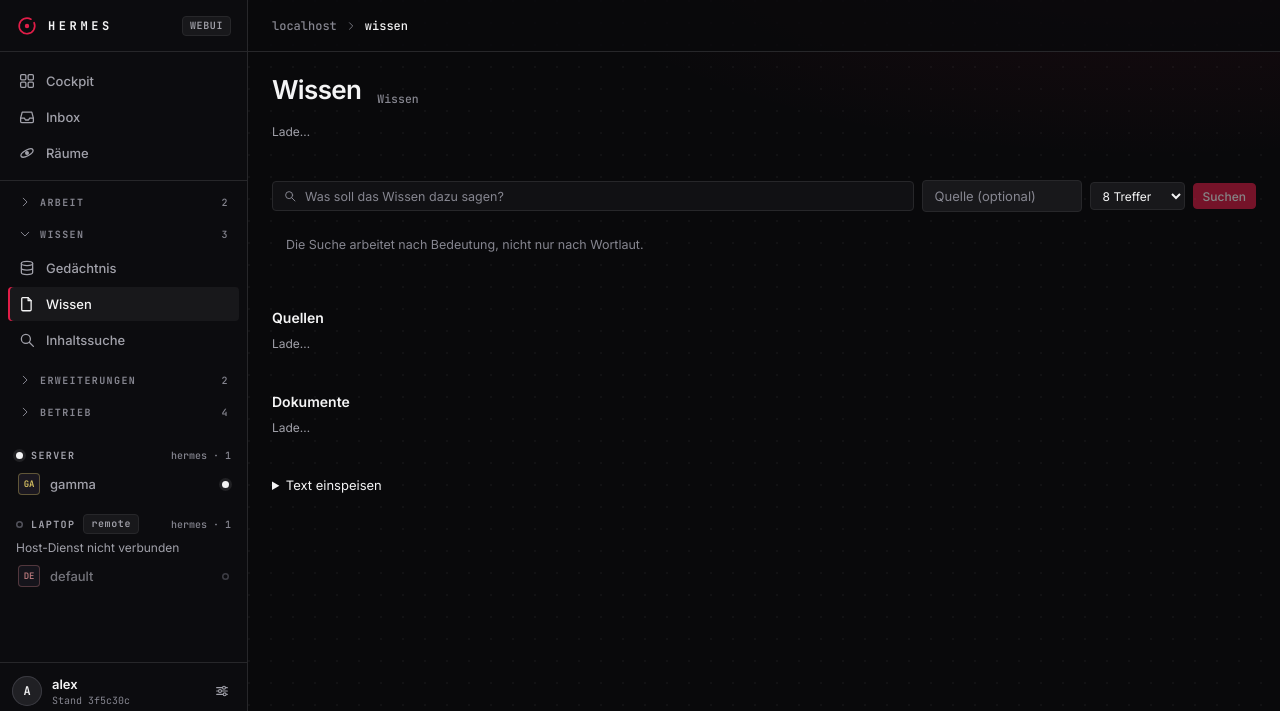
Test case: Wissen › says so when nothing matches and shows the reason when the search fails
This screenshot has width=1280, height=711.
Expected: the heading "Wissen" is shown, left=272, top=74, right=361, bottom=106
Type "nichts da" into the field named "Wissen durchsuchen" at (604,196), box left=305, top=182, right=903, bottom=210
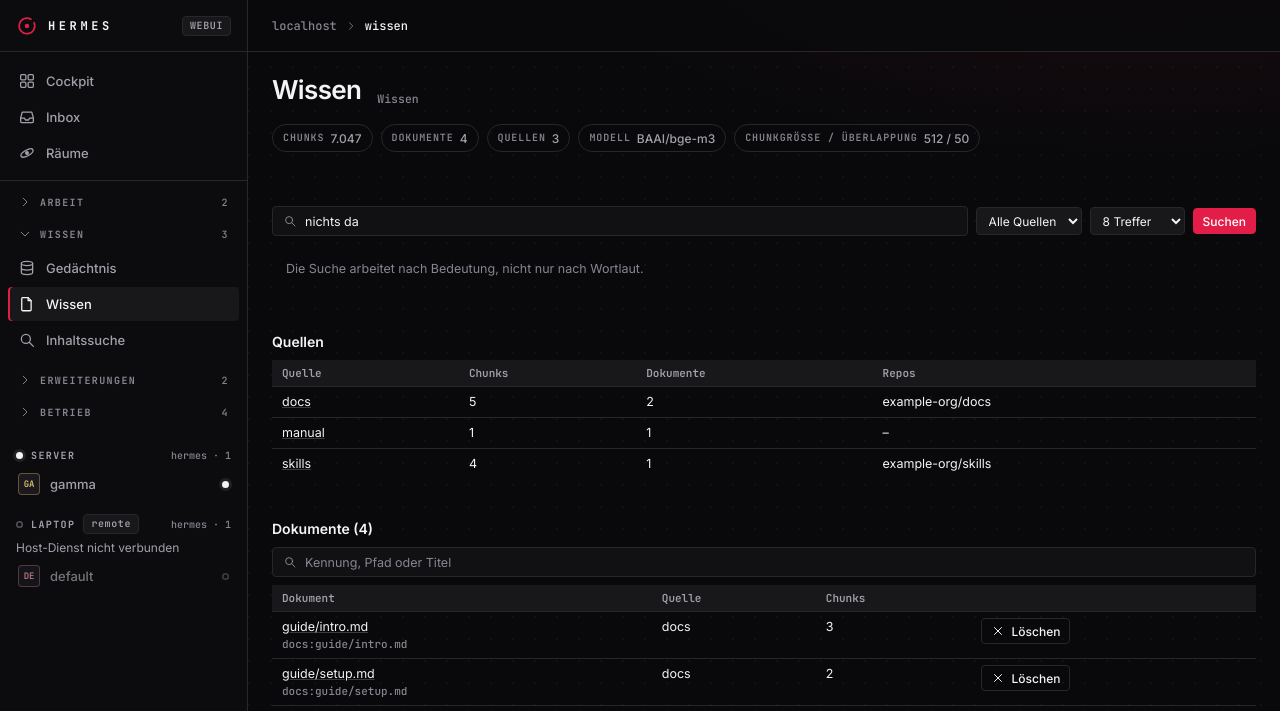
Click the button "Suchen" at (1224,221), box left=1193, top=208, right=1256, bottom=234
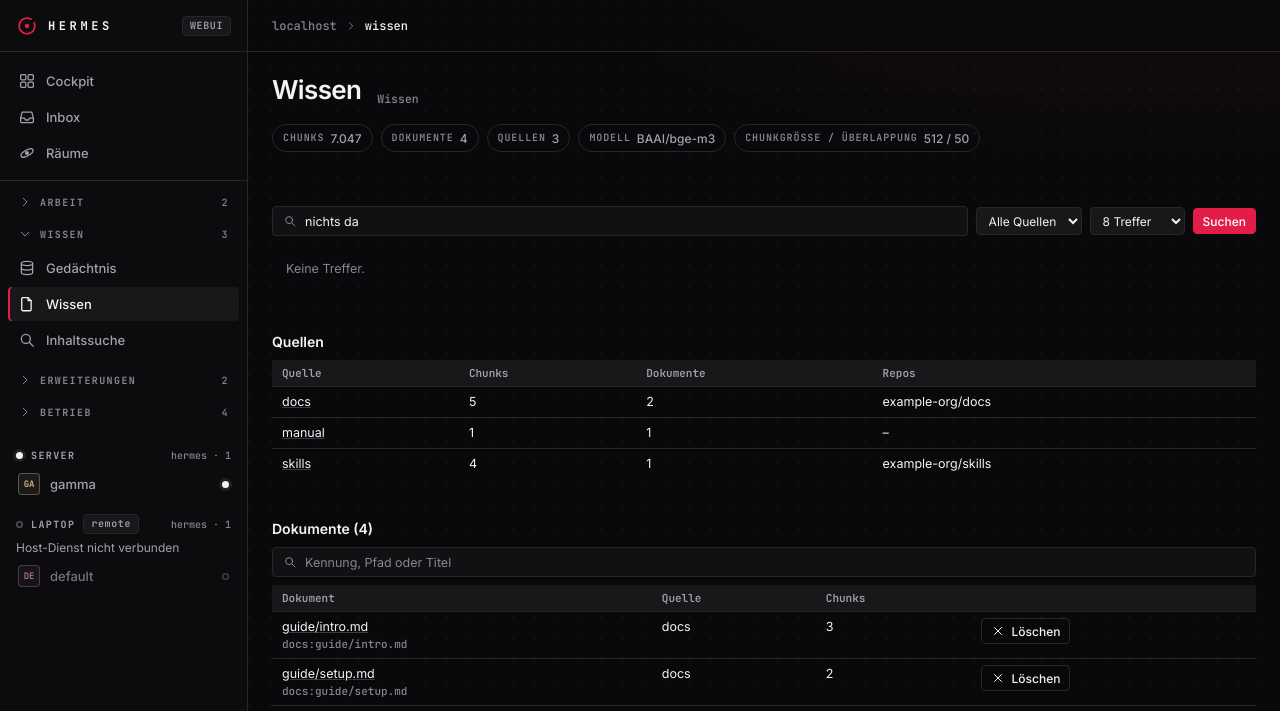
Now the text "Keine Treffer." is shown, box left=286, top=261, right=365, bottom=276
Replace the text in the field named "Wissen durchsuchen" with "Forgejo" at (631,221), box left=305, top=207, right=957, bottom=235
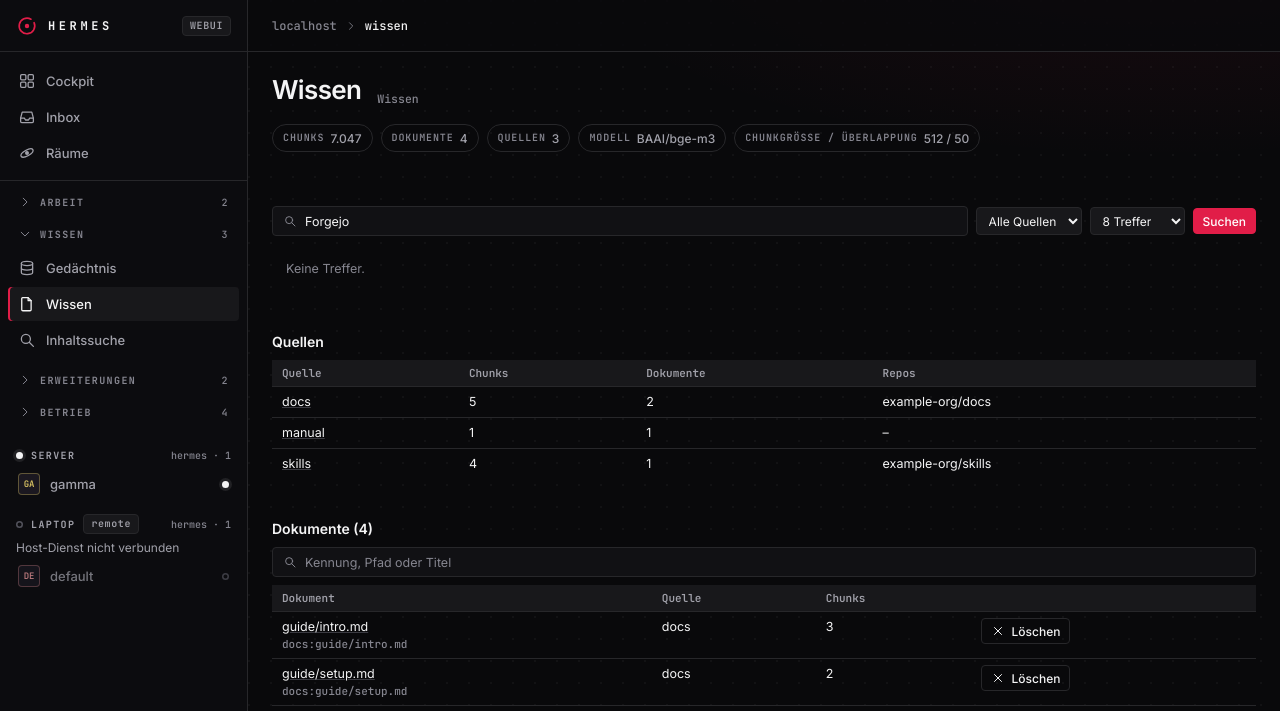
Click the button "Suchen" at (1224,221), box left=1193, top=208, right=1256, bottom=234
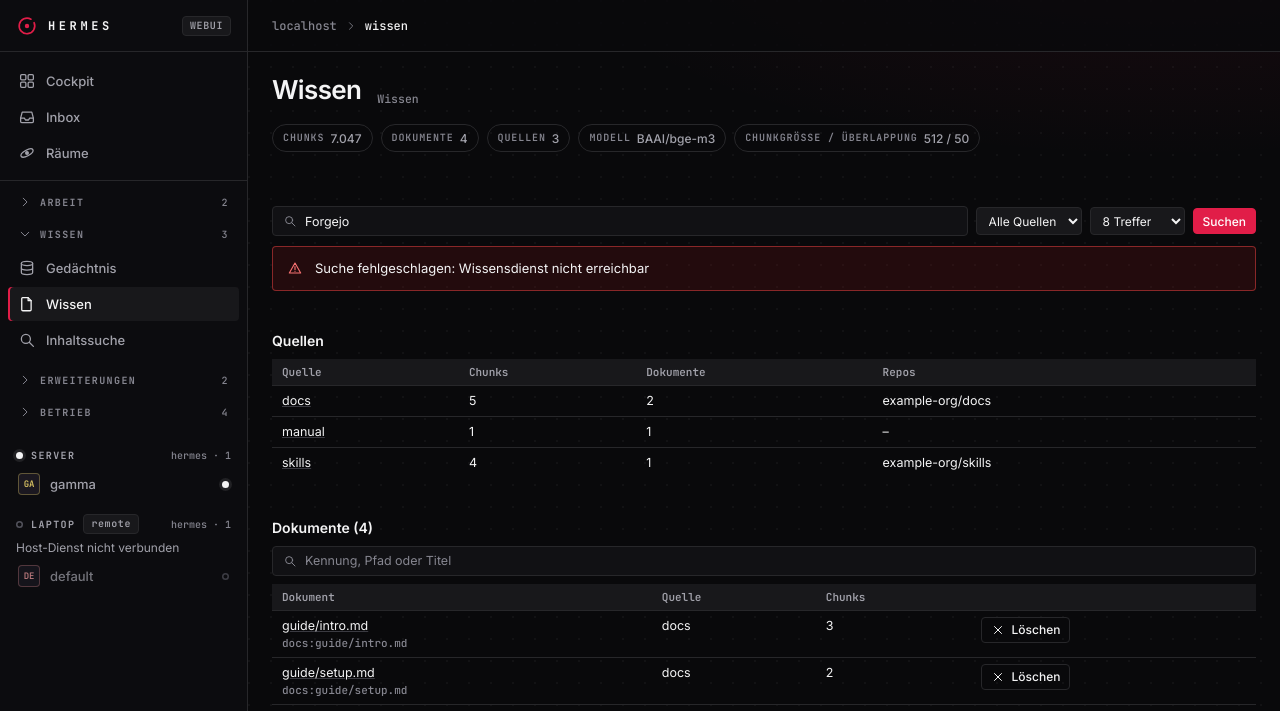
Now the text "Suche fehlgeschlagen: Wissensdienst nicht erreichbar" is shown, box left=315, top=259, right=649, bottom=278
